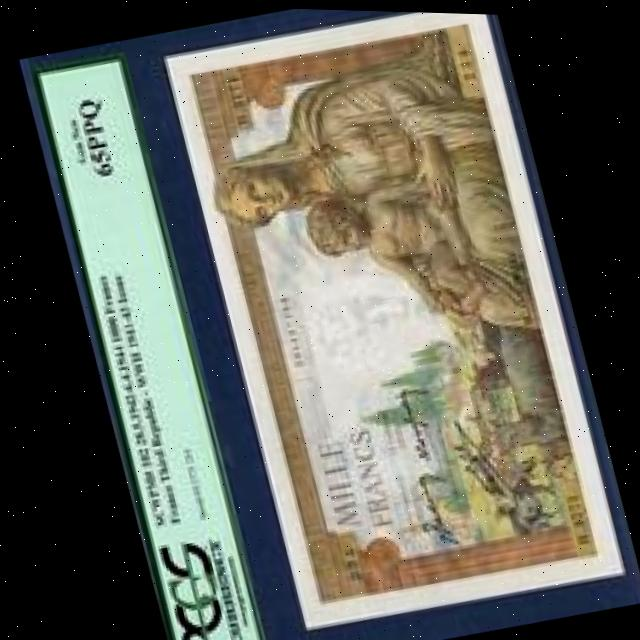banknote: (157, 4, 624, 632)
